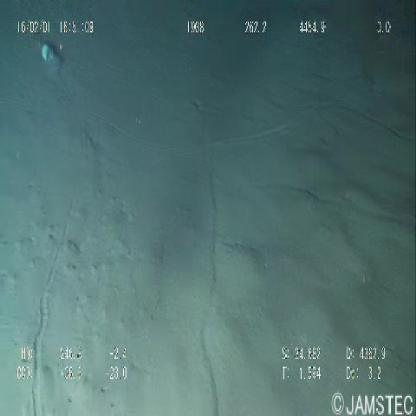Rác: (32, 35, 70, 77)
